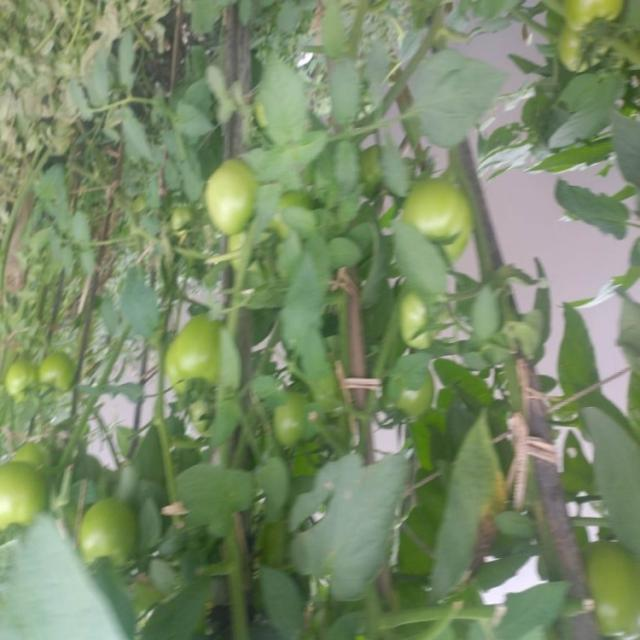tomato: (402, 174, 475, 260), (71, 498, 142, 579), (204, 152, 266, 238), (162, 317, 226, 400), (586, 541, 640, 636), (1, 463, 57, 549), (399, 280, 444, 353), (271, 391, 312, 467), (387, 380, 440, 432), (559, 22, 609, 73), (39, 350, 85, 404), (559, 1, 623, 33), (4, 358, 32, 406)
